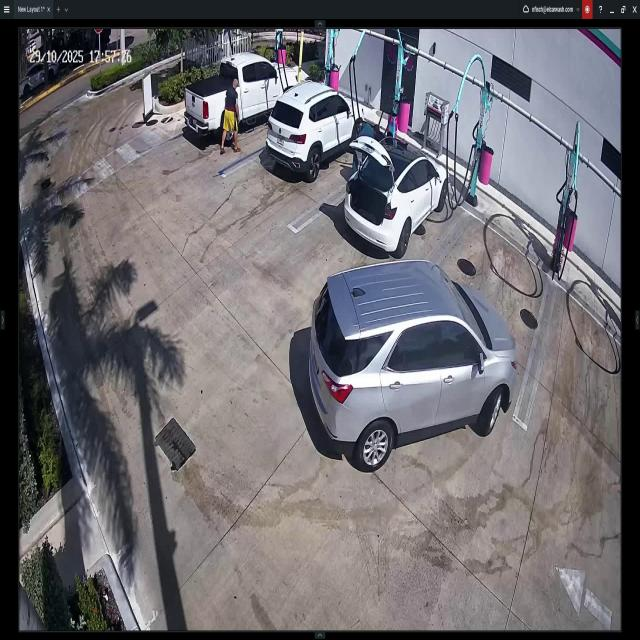Car: (314, 267, 512, 465), (342, 139, 449, 255), (184, 55, 301, 141), (272, 86, 360, 190)
